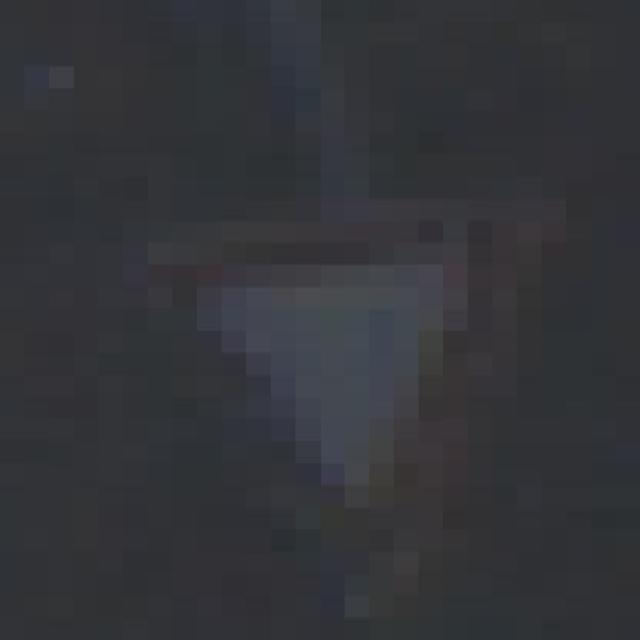Give Way: (75, 152, 592, 594)
